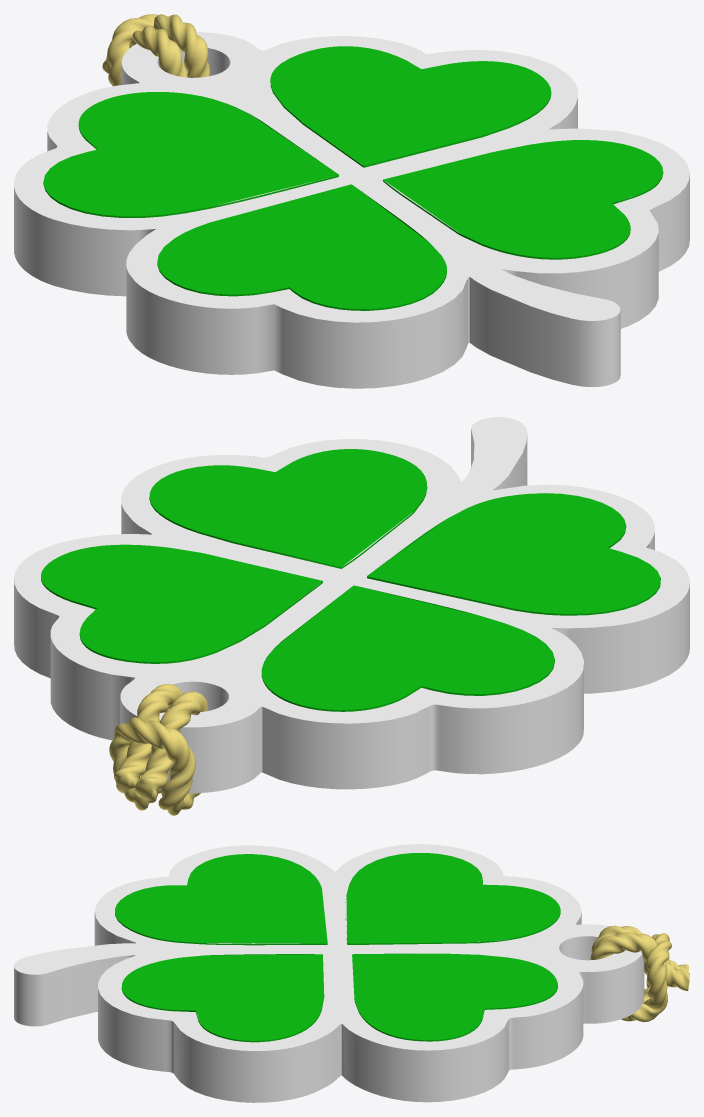
The model's file is clover_v3.glb.
3 renders of one model, top to bottom at view 1: azimuth 30°, elevation 25°; view 2: azimuth 150°, elevation 25°; view 3: azimuth 270°, elevation 25°, orthographic. The views are drawn at different scales.
Visible parts, largest first — view 1: Curve.004; view 2: Curve.004; view 3: Curve.004.
Part boxes in pixels (x1,y1,x2,y2): Curve.004: [14, 14, 689, 388]; Curve.004: [14, 417, 689, 815]; Curve.004: [14, 844, 689, 1102].
Size of the model in its own units: 0.0515 by 0.0101 by 0.0711.
